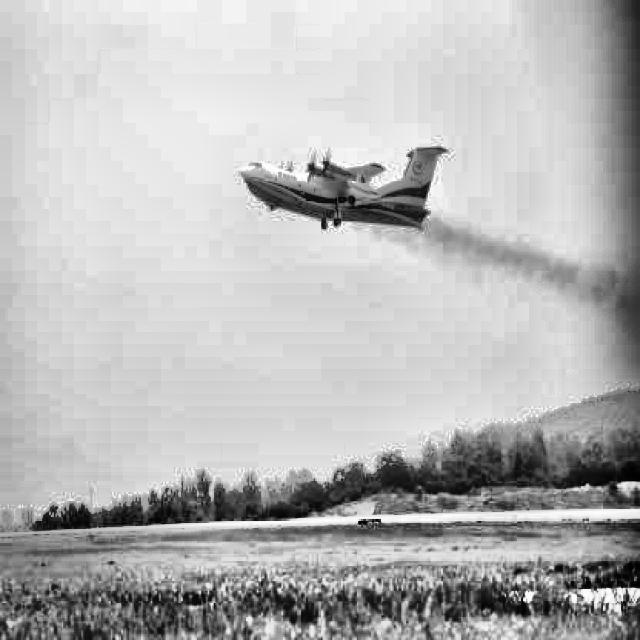AG600: (238, 147, 450, 231)
